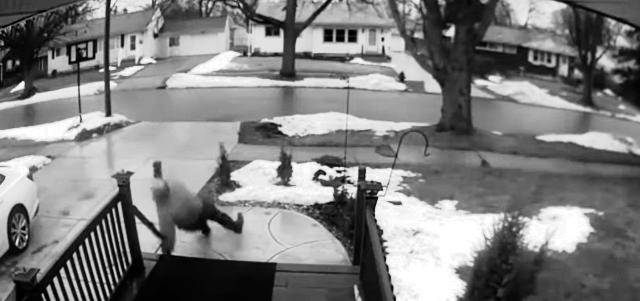jatuh: (142, 170, 254, 264)
